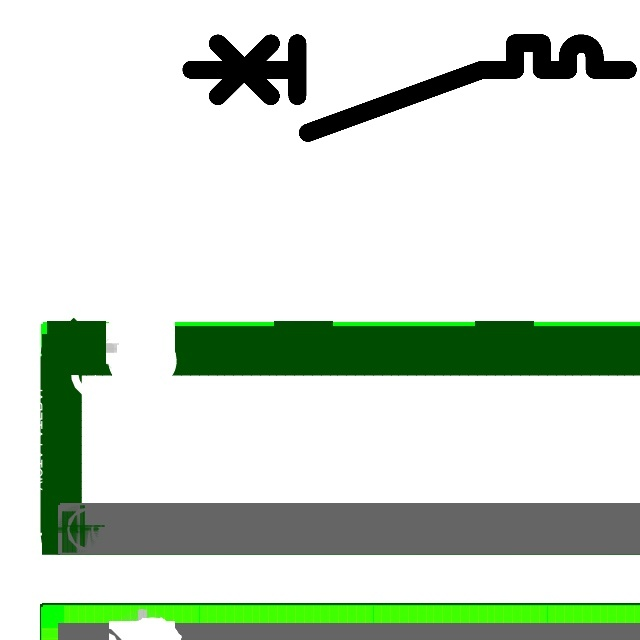interruptor_termomagnetico: (180, 32, 639, 144)
